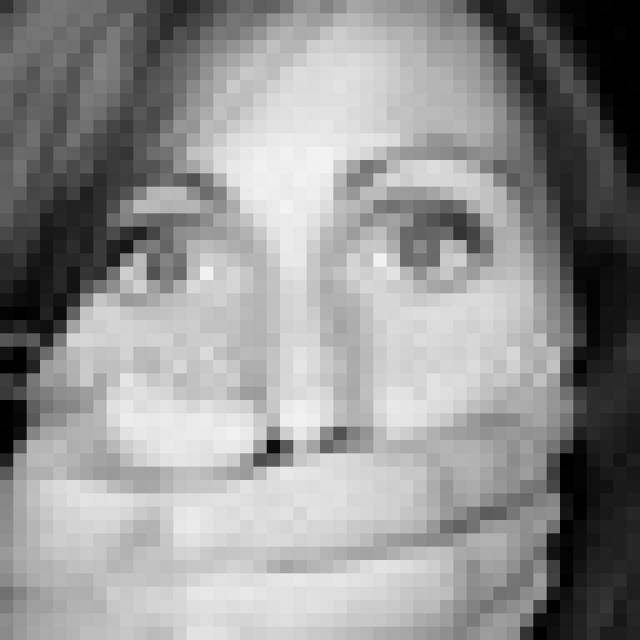fear: (87, 147, 534, 619)
